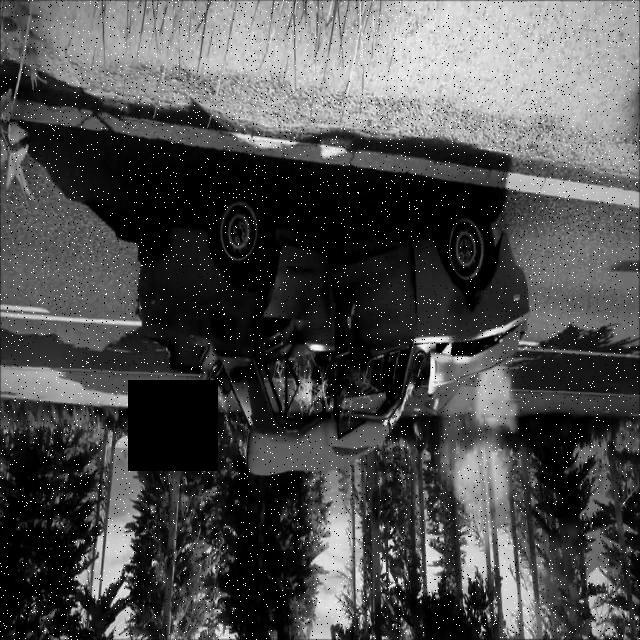severe: (135, 208, 536, 478)
